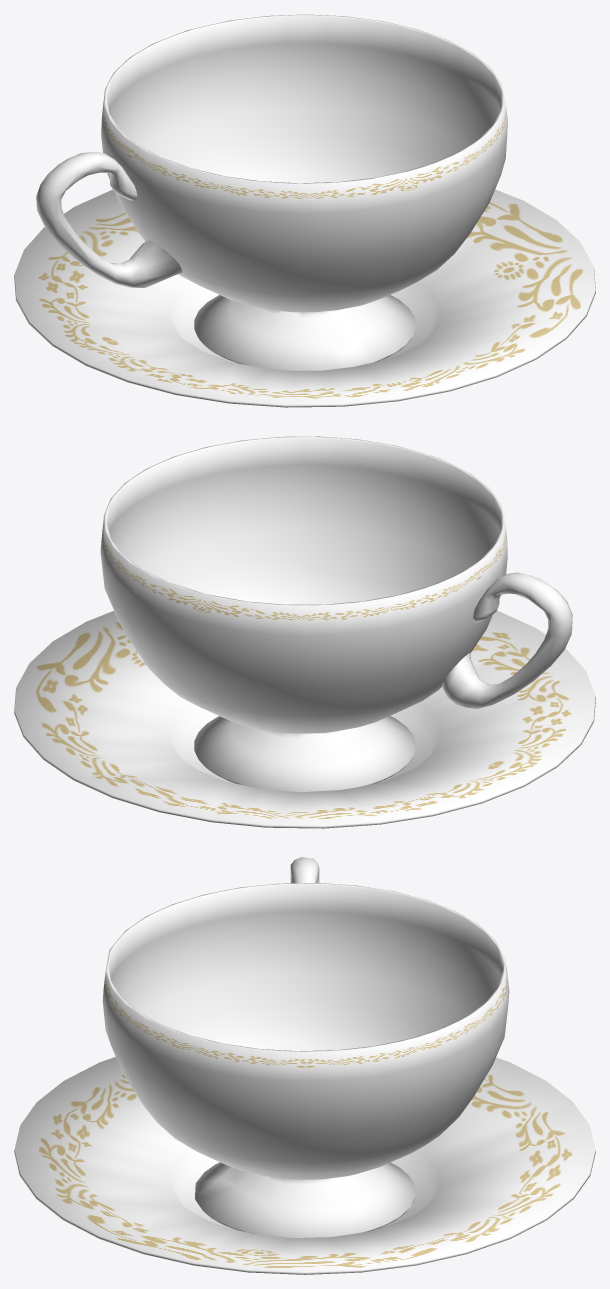
File: teacup.fbx
The picture shows the model from 3 angles, top to bottom: view 1: azimuth 30°, elevation 25°; view 2: azimuth 150°, elevation 25°; view 3: azimuth 270°, elevation 25°; orthographic projection.
Parts seen in each view (by area): view 1: teacup; view 2: teacup; view 3: teacup.
Boxes of the visible parts, x1=… form: teacup: x1=14, y1=14, x2=595, y2=407; teacup: x1=14, y1=436, x2=595, y2=828; teacup: x1=14, y1=857, x2=595, y2=1274.
Size of the model in its own units: 190 by 80.42 by 185.
1 material, 1 textured.
